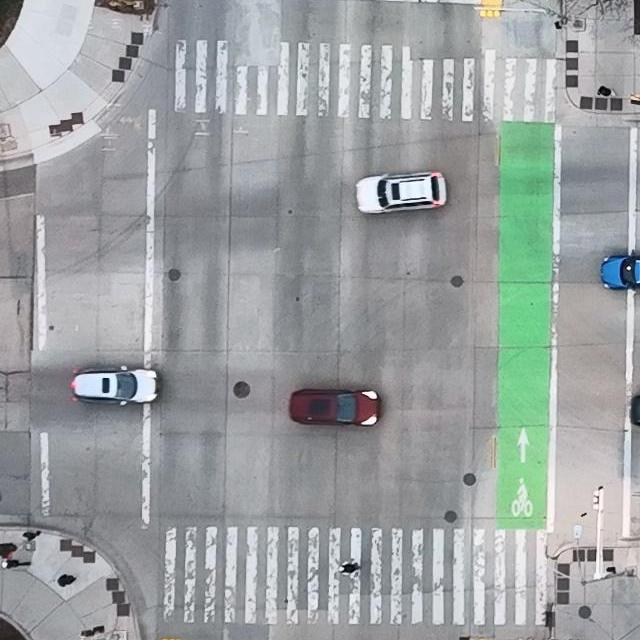car: (355, 171, 447, 214), (69, 364, 160, 407), (289, 386, 379, 428), (601, 250, 640, 293)
